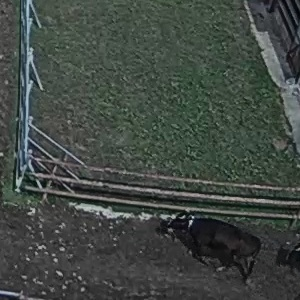cow: (152, 213, 266, 282)
